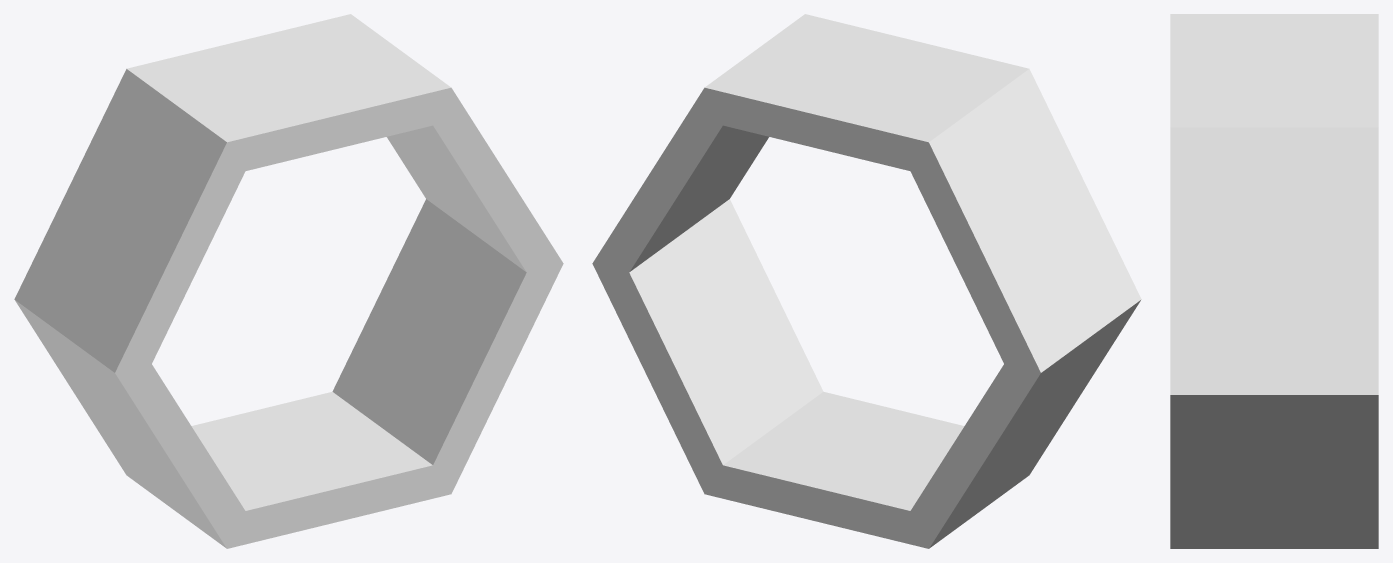
The model's file is Prop_WallShelf_06.fbx.
3 views of the same model, side by side, from view 1: azimuth 30°, elevation 25°; view 2: azimuth 150°, elevation 25°; view 3: azimuth 270°, elevation 25° (orthographic). The views are drawn at different scales.
Visible parts, largest first — view 1: Prop_WallShelf_06; view 2: Prop_WallShelf_06; view 3: Prop_WallShelf_06.
Part boxes in pixels (<box>): Prop_WallShelf_06: <box>14,14,563,548</box>; Prop_WallShelf_06: <box>592,14,1141,548</box>; Prop_WallShelf_06: <box>1170,14,1378,548</box>.
Size of the model in its own units: 22.14 by 19.17 by 8.6.
